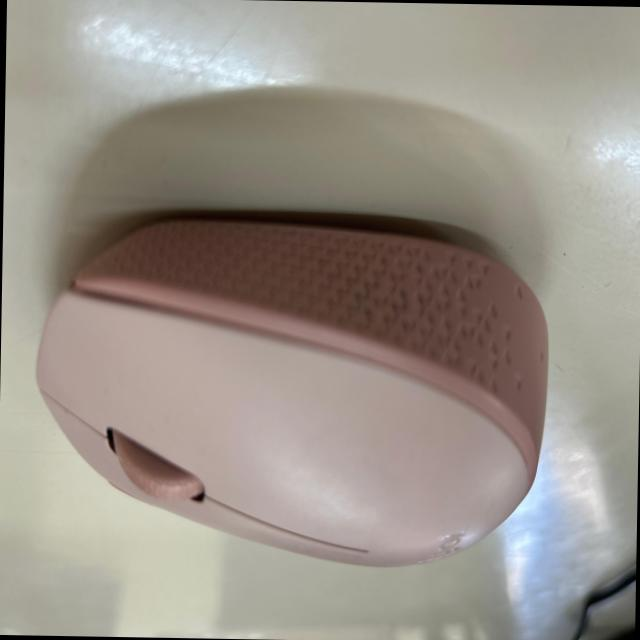inorganic: (33, 207, 551, 570)
